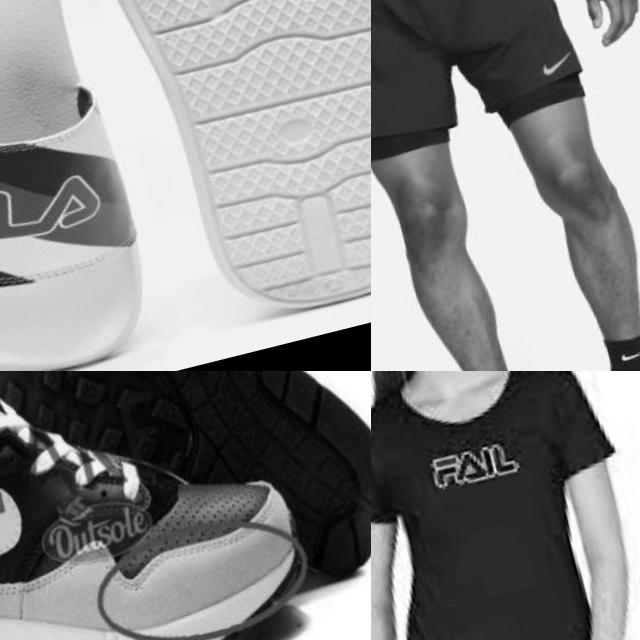FILA_fake: (424, 429, 534, 508)
FILA_original: (0, 132, 115, 285)
NIKE_fake: (0, 462, 44, 617)
NIKE_original: (527, 40, 583, 86)
